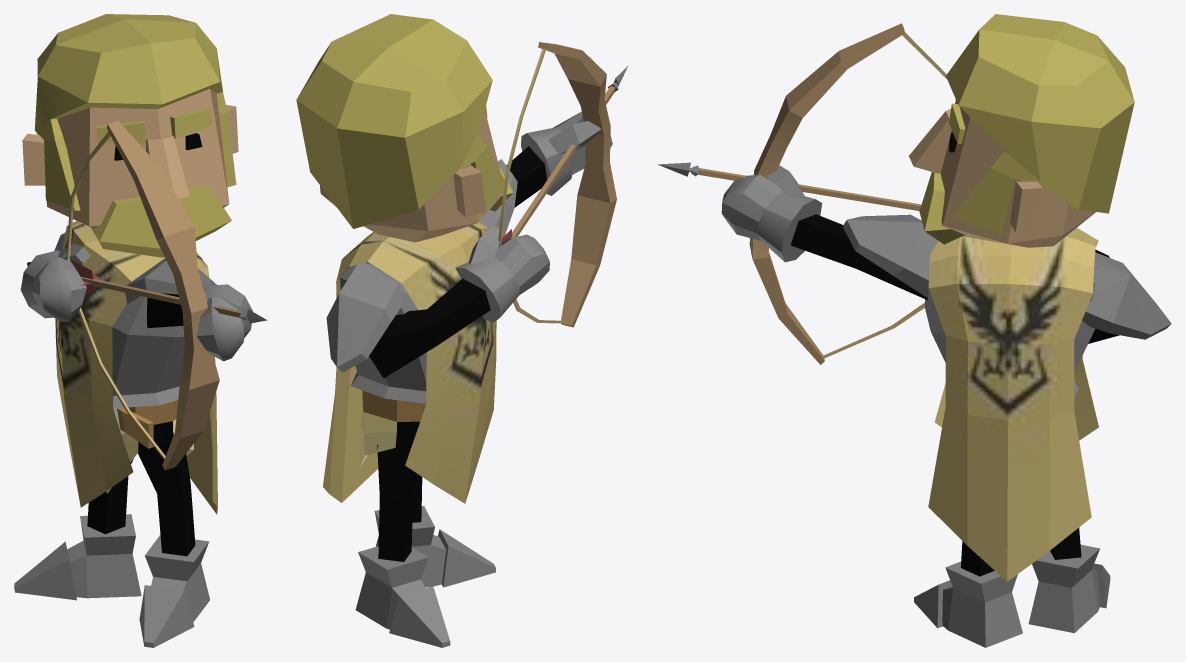
File: archer.glb
3 views of the same model, side by side, from view 1: azimuth 30°, elevation 25°; view 2: azimuth 150°, elevation 25°; view 3: azimuth 270°, elevation 25° (orthographic). The views are drawn at different scales.
Visible parts, largest first — view 1: Soldier_9_PG_Mat02_0, Soldier_9_Stendardi_Mat3_0; view 2: Soldier_9_PG_Mat02_0, Soldier_9_Stendardi_Mat3_0; view 3: Soldier_9_PG_Mat02_0, Soldier_9_Stendardi_Mat3_0.
Part boxes in pixels (bbox=[...]): Soldier_9_PG_Mat02_0: bbox=[14, 14, 266, 647]; Soldier_9_Stendardi_Mat3_0: bbox=[55, 221, 217, 514]; Soldier_9_PG_Mat02_0: bbox=[296, 14, 628, 647]; Soldier_9_Stendardi_Mat3_0: bbox=[323, 222, 496, 503]; Soldier_9_PG_Mat02_0: bbox=[657, 14, 1171, 647]; Soldier_9_Stendardi_Mat3_0: bbox=[928, 228, 1098, 581].
Size of the model in its own units: 0.6911 by 1.72 by 1.36.
Materials: 2 (2 with a texture image).
